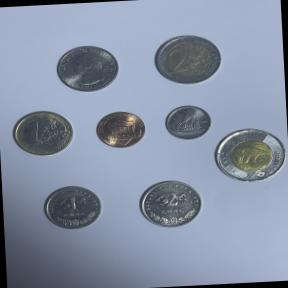1 Euro: (9, 108, 78, 160)
2 Euro: (148, 29, 226, 91)
Canda-10cent-: (163, 102, 215, 142)
Canda-2Dollar-: (212, 125, 288, 186)
Croatia-2Kune-: (133, 175, 207, 232)
US-1cent-: (92, 108, 150, 150)
US-25cent-: (51, 41, 124, 97)
